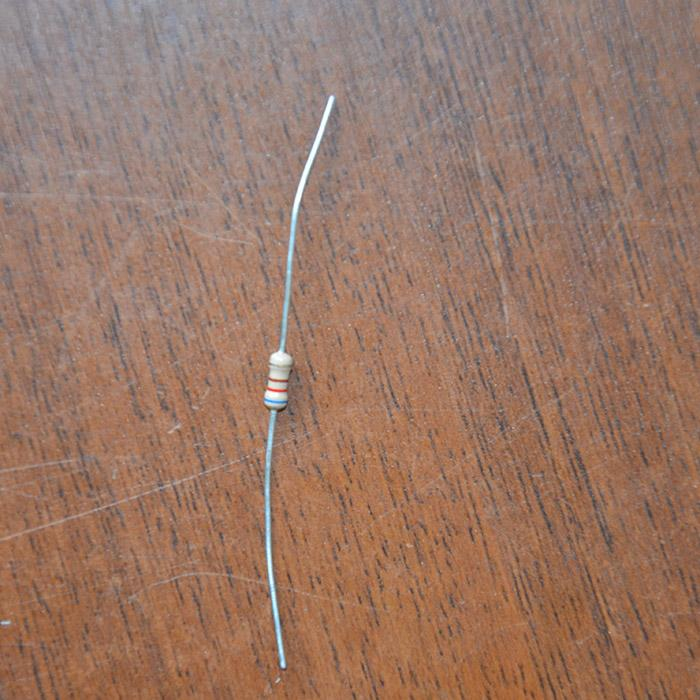resistor: (263, 350, 294, 409)
